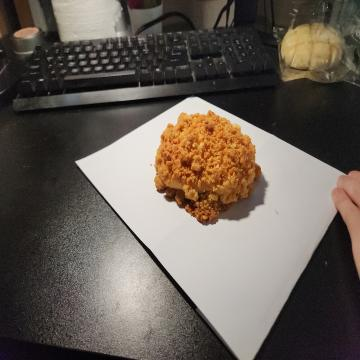soboru_bread: (152, 114, 255, 225)
